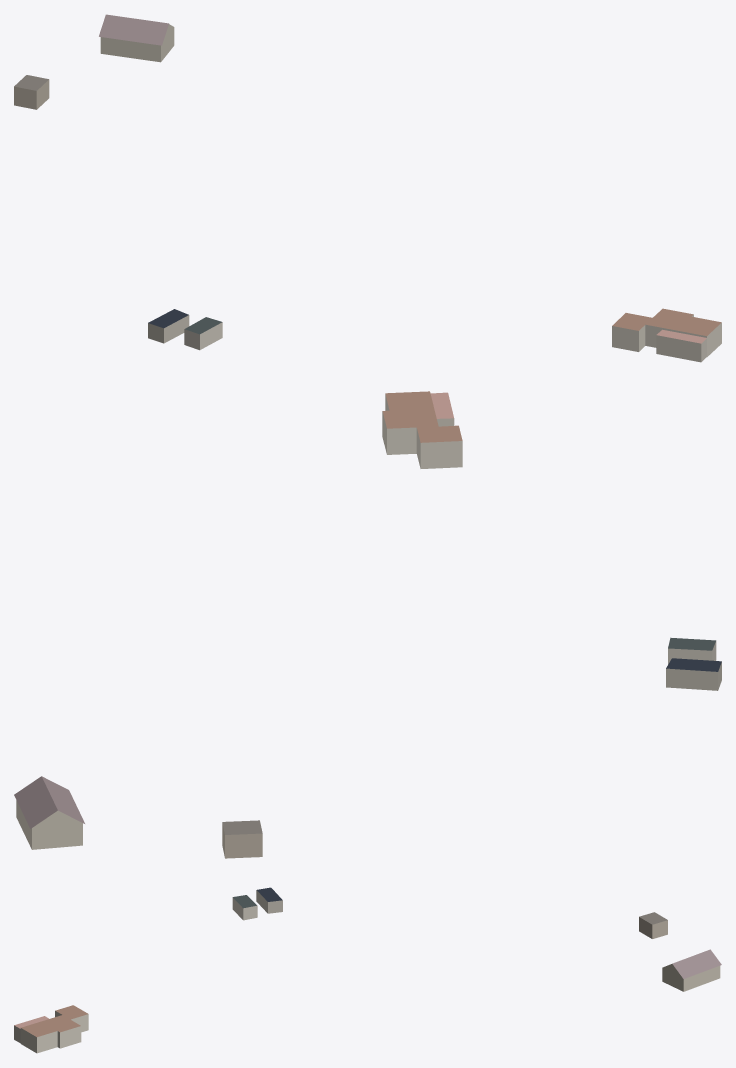
3 renders of one model, top to bottom at view 1: azimuth 30°, elevation 25°; view 2: azimuth 150°, elevation 25°; view 3: azimuth 270°, elevation 25°, orthographic. The views are drawn at different scales.
Visible parts, largest first — view 1: tuile; view 2: tuile; view 3: tuile.
Part boxes in pixels (x1,y1,x2,y2): tuile: (14, 14, 721, 362); tuile: (14, 391, 721, 858); tuile: (14, 887, 721, 1053).
Bounding box in the file's own units: 104 × 12.78 × 198.
